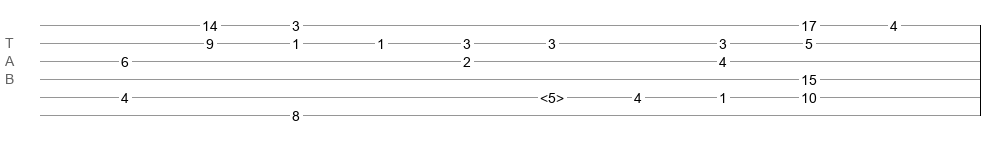1: (292, 36, 300, 46), (377, 36, 385, 46), (719, 90, 727, 100)
10: (801, 90, 817, 100)
14: (202, 18, 218, 28)
15: (801, 72, 817, 82)
17: (801, 18, 817, 28)
2: (463, 54, 471, 64)
3: (292, 18, 300, 28), (463, 36, 471, 46), (548, 36, 556, 46), (719, 36, 727, 46)
4: (121, 90, 129, 100), (634, 90, 642, 100), (719, 54, 727, 64), (890, 18, 898, 28)
5: (805, 36, 813, 46)
6: (121, 54, 129, 64)
8: (292, 108, 300, 118)
9: (206, 36, 214, 46)
harmonic: (540, 90, 564, 100)
